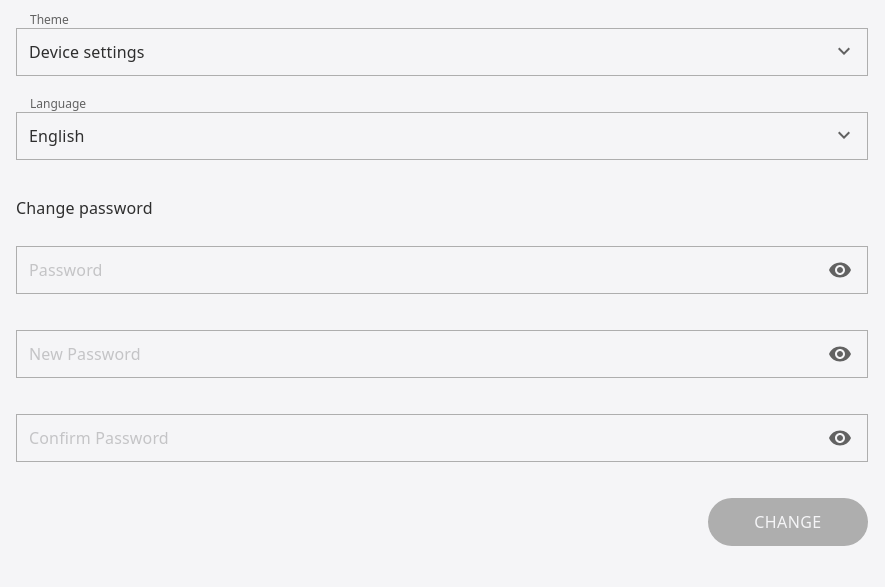
it: Settings › shows a server error under the field and keeps entered values
In the password field labelled "Password": {"x": 442, "y": 270} [16,246,868,294], type "old-secret"
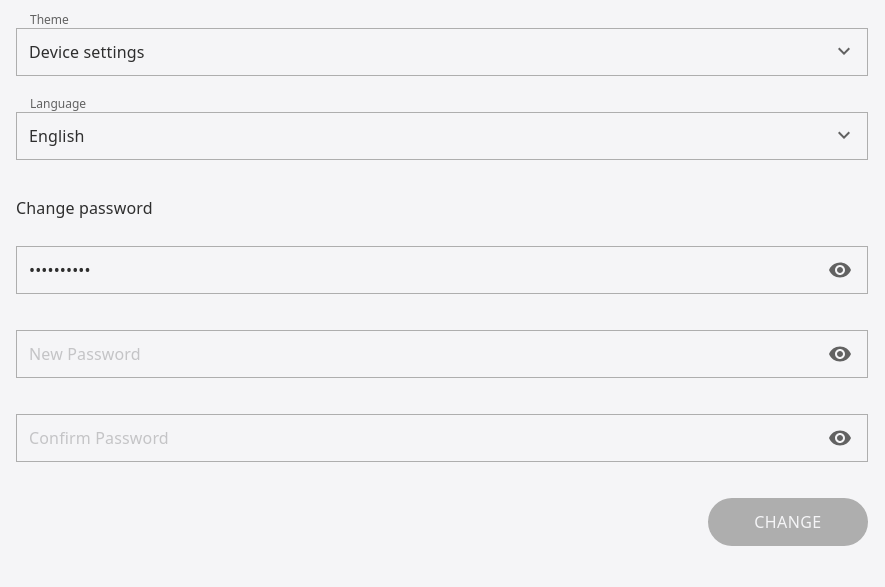
In the password field labelled "New Password": {"x": 442, "y": 354} [16,330,868,378], type "new-secret"
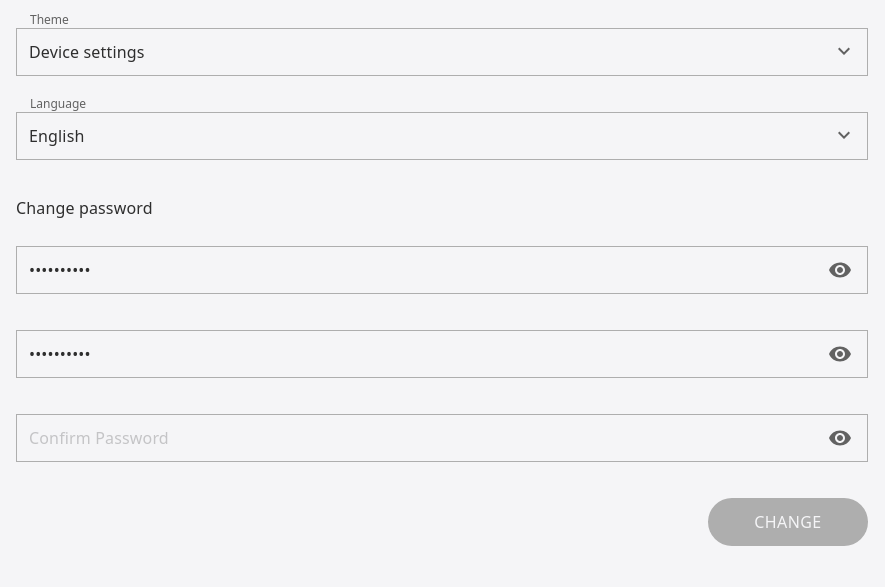
In the password field labelled "Confirm Password": {"x": 442, "y": 438} [16,414,868,462], type "new-secret"
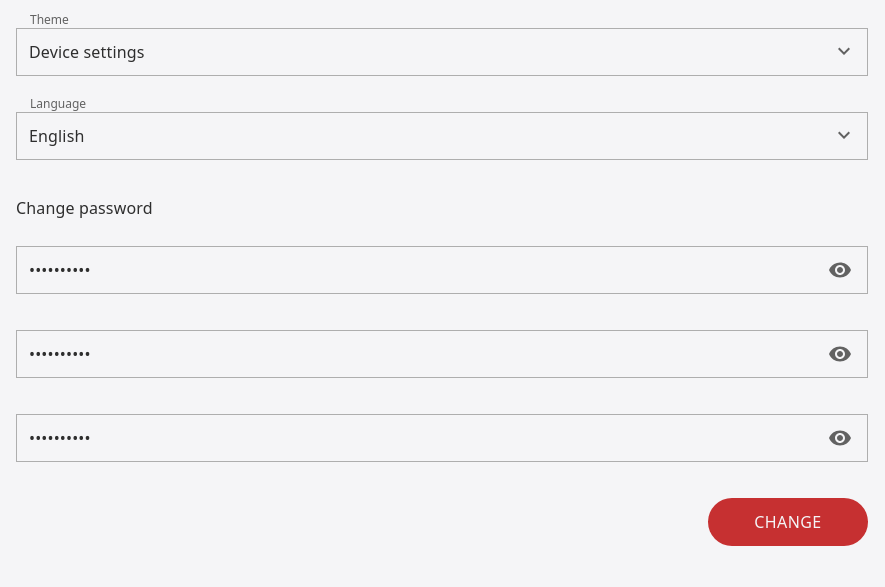
Click the button "Change": {"x": 788, "y": 522} [708,498,868,546]
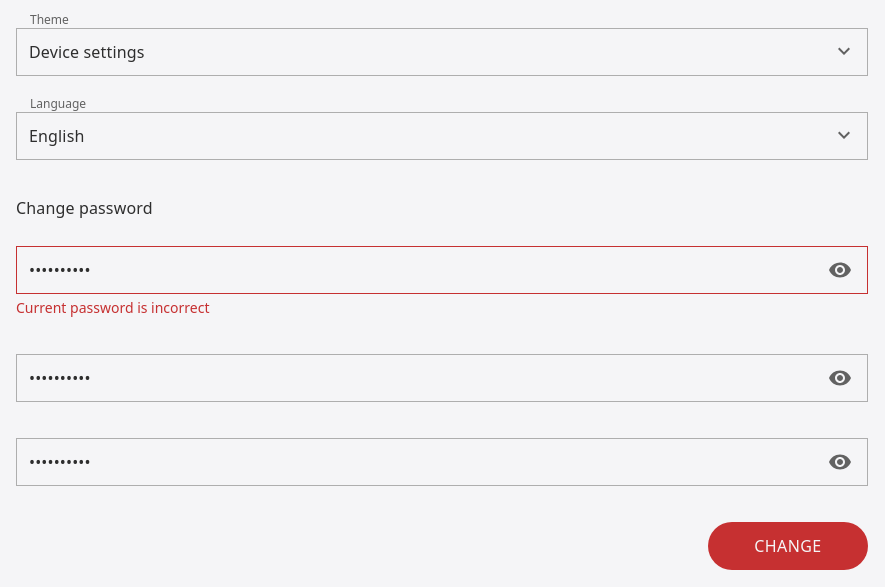
Check: the text "Current password is incorrect" is shown, box [16,298,210,317]
